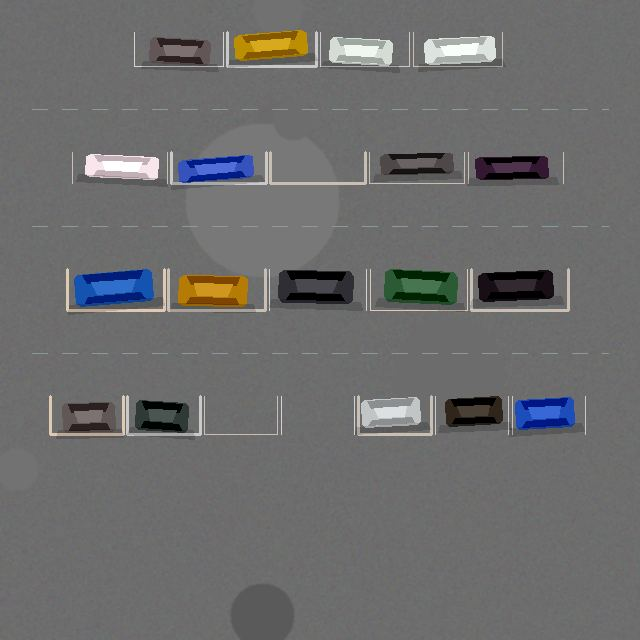space-empty: (270, 152, 365, 183), (204, 396, 277, 434), (281, 396, 354, 434)
space-occupied: (67, 269, 164, 310), (168, 269, 265, 310), (269, 269, 366, 310), (370, 269, 467, 310), (471, 269, 568, 310), (134, 32, 223, 66), (227, 32, 316, 66), (320, 32, 409, 66), (413, 32, 502, 66), (72, 152, 167, 183), (171, 152, 266, 183), (369, 152, 464, 183), (468, 152, 563, 183), (50, 396, 123, 434), (127, 396, 200, 434), (358, 396, 431, 434), (435, 396, 508, 434), (512, 396, 585, 434)
